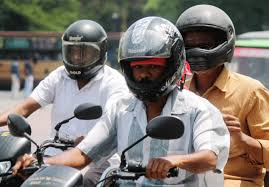helmet: (116, 14, 185, 102), (175, 2, 245, 77), (56, 16, 112, 83)
